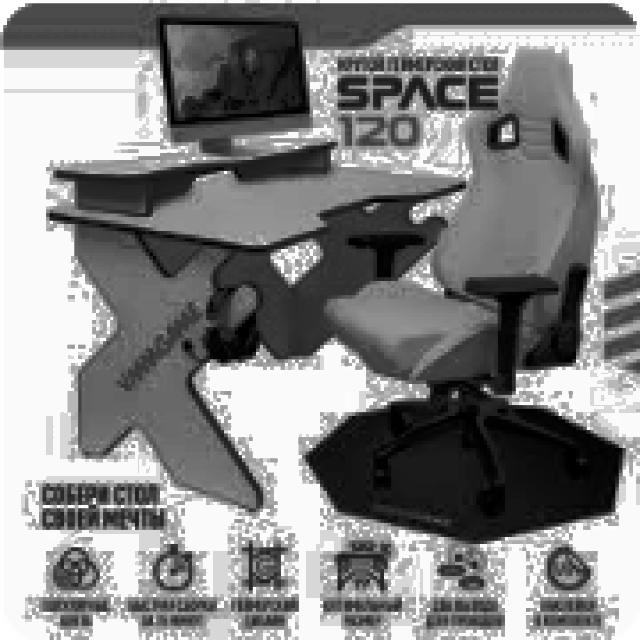book: (320, 46, 601, 516)
table: (46, 146, 466, 508)
